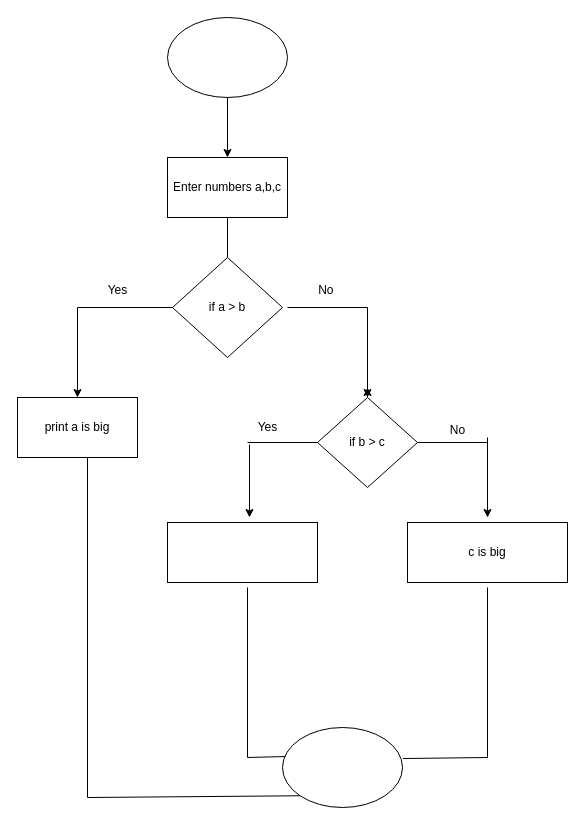
Some shapes in this 585 by 825 pixel diagram are drawn without their labels. The centre of each missing label's shape, as x and y in pixels:
"b is big" goes at point (242, 552).
"Start" goes at point (227, 57).
